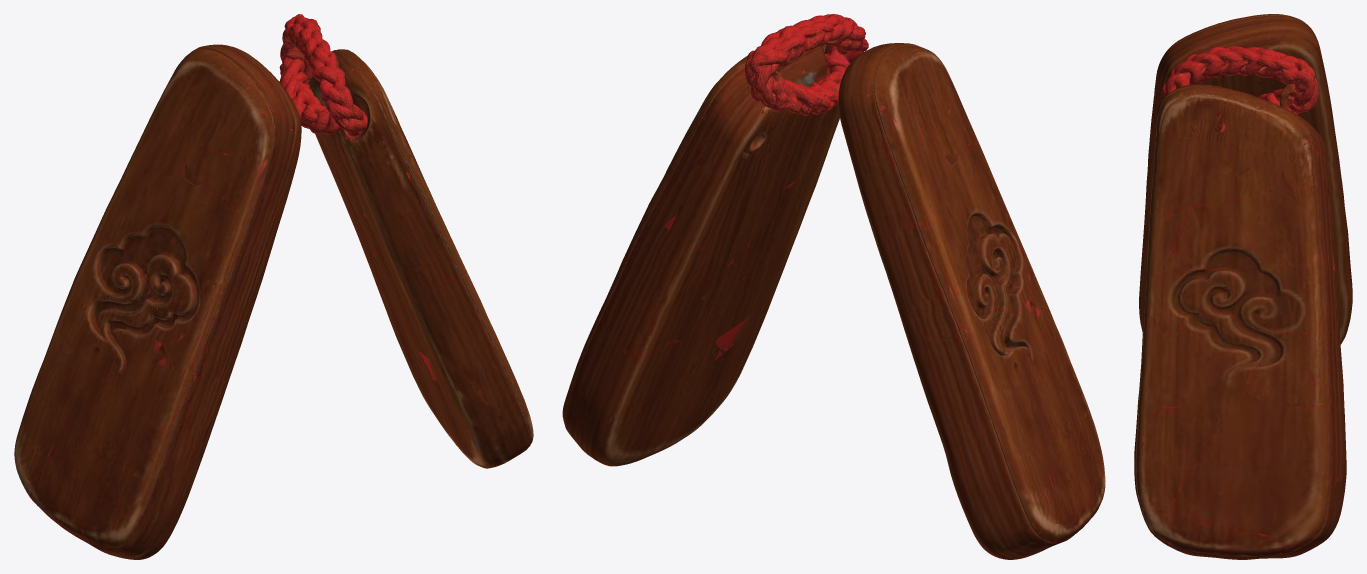
Rendered from herald.glb.
3 renders of one model, left to right at view 1: azimuth 30°, elevation 25°; view 2: azimuth 150°, elevation 25°; view 3: azimuth 270°, elevation 25°, orthographic. The views are drawn at different scales.
Size of the model in its own units: 1.9 by 1.78 by 0.8003.
Materials: 1 (1 with a texture image).
